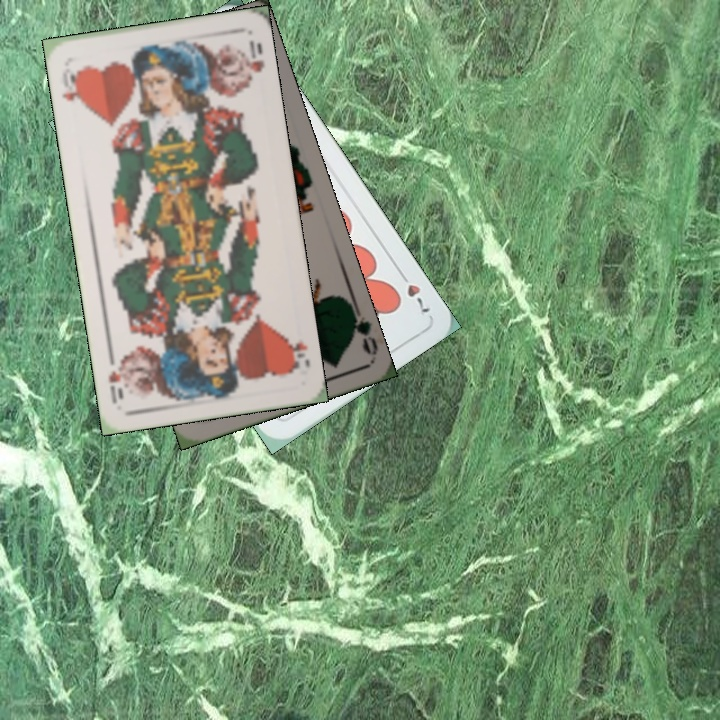GO: (346, 299, 380, 357)
H7: (394, 265, 433, 316)
HO: (283, 334, 312, 376), (57, 66, 86, 107)
